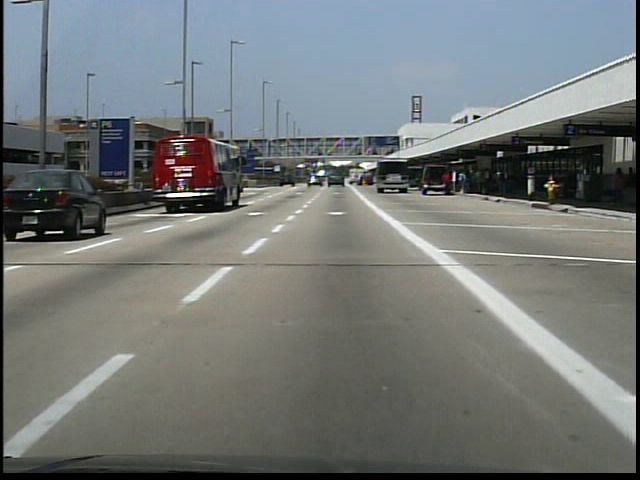person: (441, 168, 456, 200)
